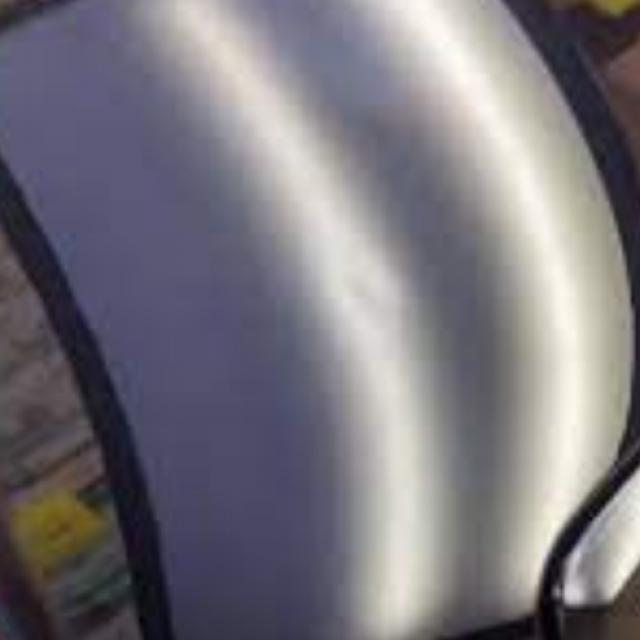dents: (294, 235, 432, 323)
